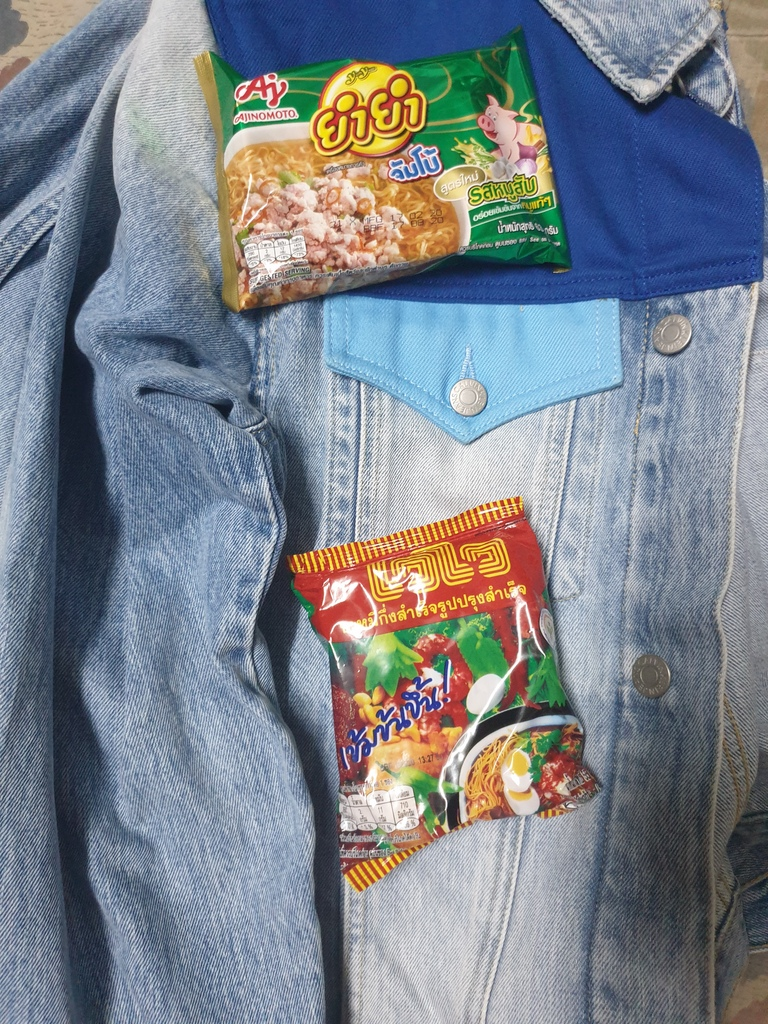waiwai: (286, 520, 615, 844)
yumyum: (201, 56, 578, 301)
